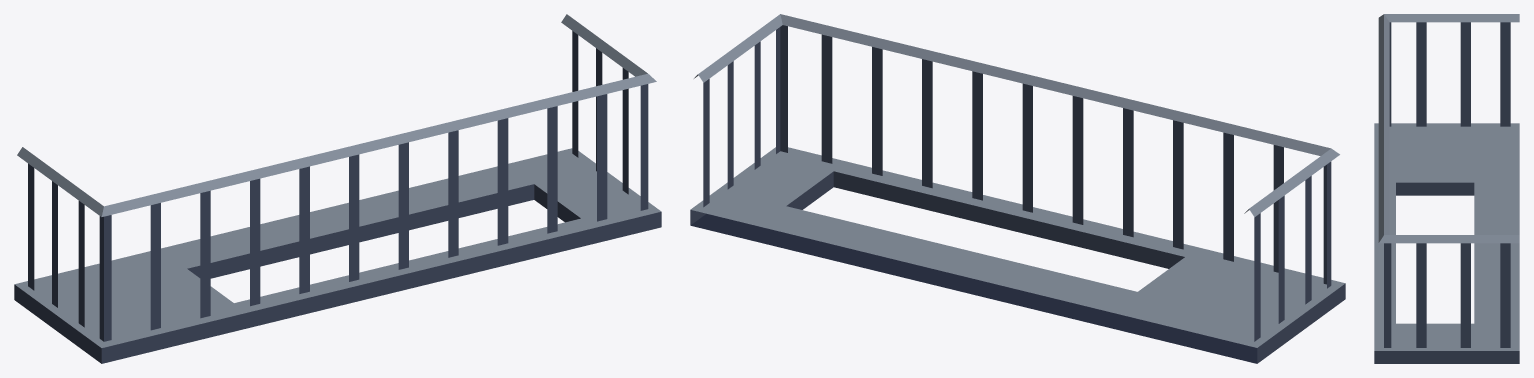
The model's file is TB_CITY_BD_StairBody_A.FBX.
3 views of the same model, side by side, from view 1: azimuth 30°, elevation 25°; view 2: azimuth 150°, elevation 25°; view 3: azimuth 270°, elevation 25° (orthographic). The views are drawn at different scales.
Parts seen in each view (by area): view 1: TB_CITY_BD_StairBody_A; view 2: TB_CITY_BD_StairBody_A; view 3: TB_CITY_BD_StairBody_A.
Boxes of the visible parts, box(x1,y1,x2,y2) form: TB_CITY_BD_StairBody_A: box(14, 14, 661, 363); TB_CITY_BD_StairBody_A: box(690, 14, 1345, 363); TB_CITY_BD_StairBody_A: box(1374, 14, 1519, 363).
Bounding box in the file's own units: 5.95 × 1.54 × 1.61.
